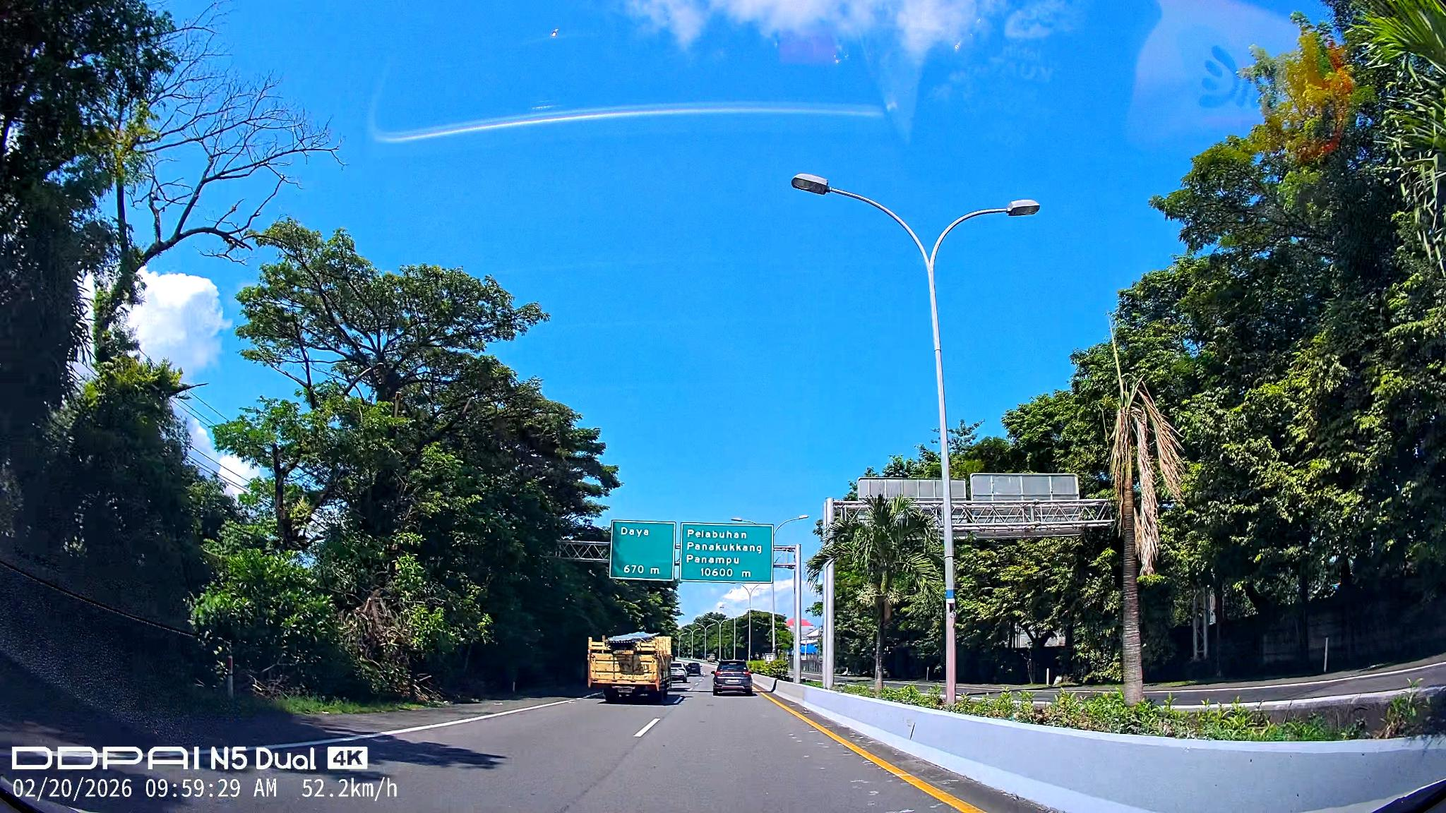rambu_teks: (679, 522, 775, 584), (609, 519, 676, 581)
